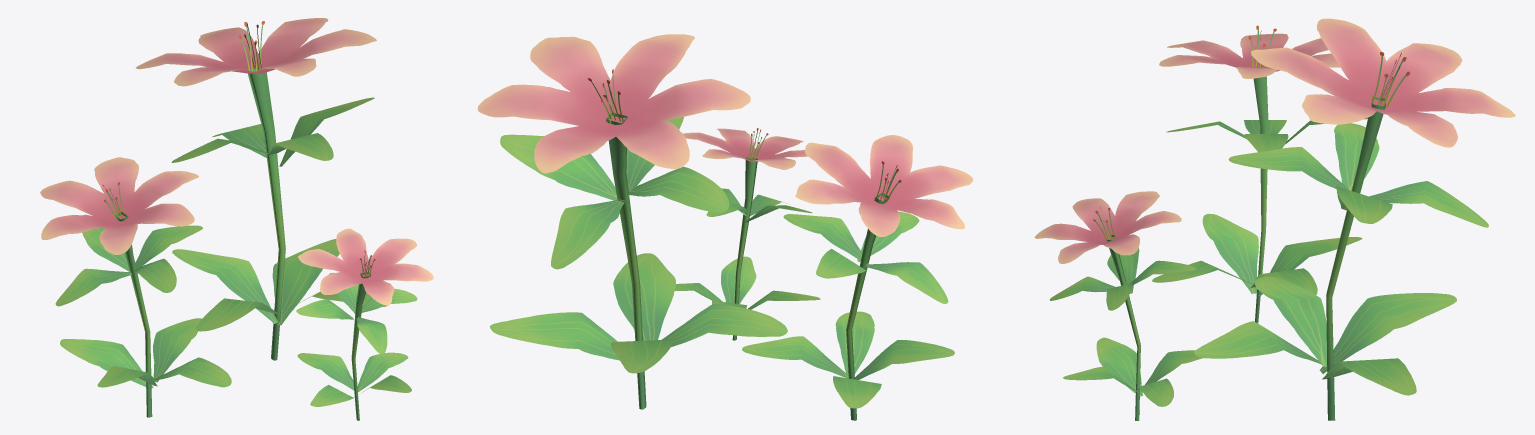
File: Lys_LOD0.fbx
3 renders of one model, left to right at view 1: azimuth 30°, elevation 25°; view 2: azimuth 150°, elevation 25°; view 3: azimuth 270°, elevation 25°, orthographic. The views are drawn at different scales.
Parts seen in each view (by area): view 1: Lys; view 2: Lys; view 3: Lys.
Boxes of the visible parts, x1,y1,x2,y2 form: Lys: (40, 18, 433, 420); Lys: (477, 34, 973, 420); Lys: (1034, 18, 1515, 420).
Size of the model in its own units: 7.16 by 5.64 by 6.65.
